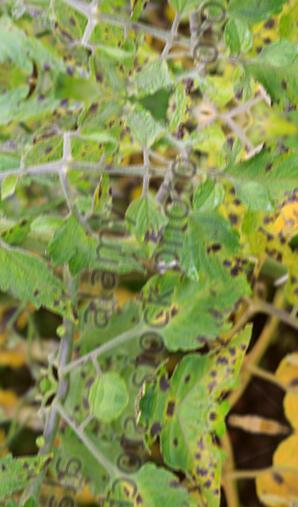Tomato Early blight leaf: (155, 307, 254, 421), (152, 197, 260, 299), (0, 231, 93, 324), (220, 133, 298, 223)
